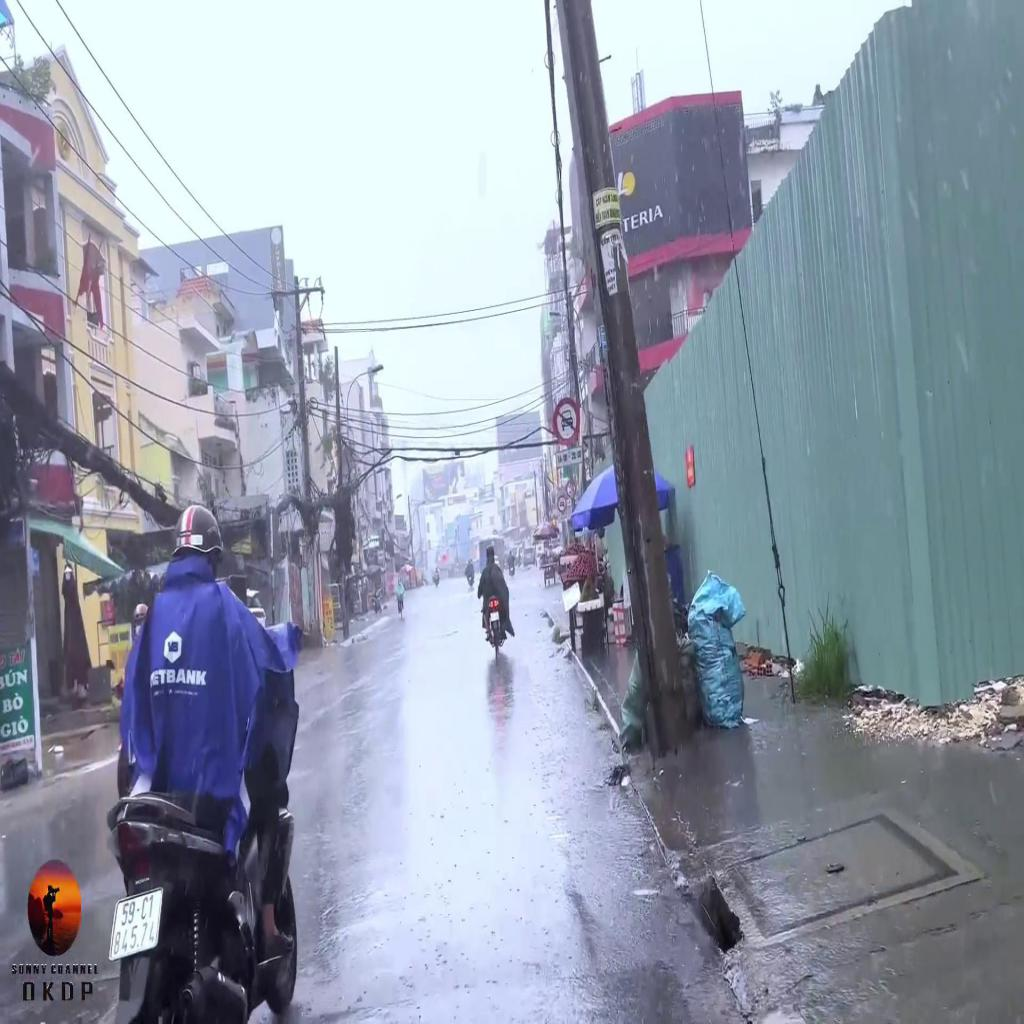cam_o_to: (552, 398, 581, 445), (557, 494, 566, 514)
khac: (556, 448, 584, 468)
